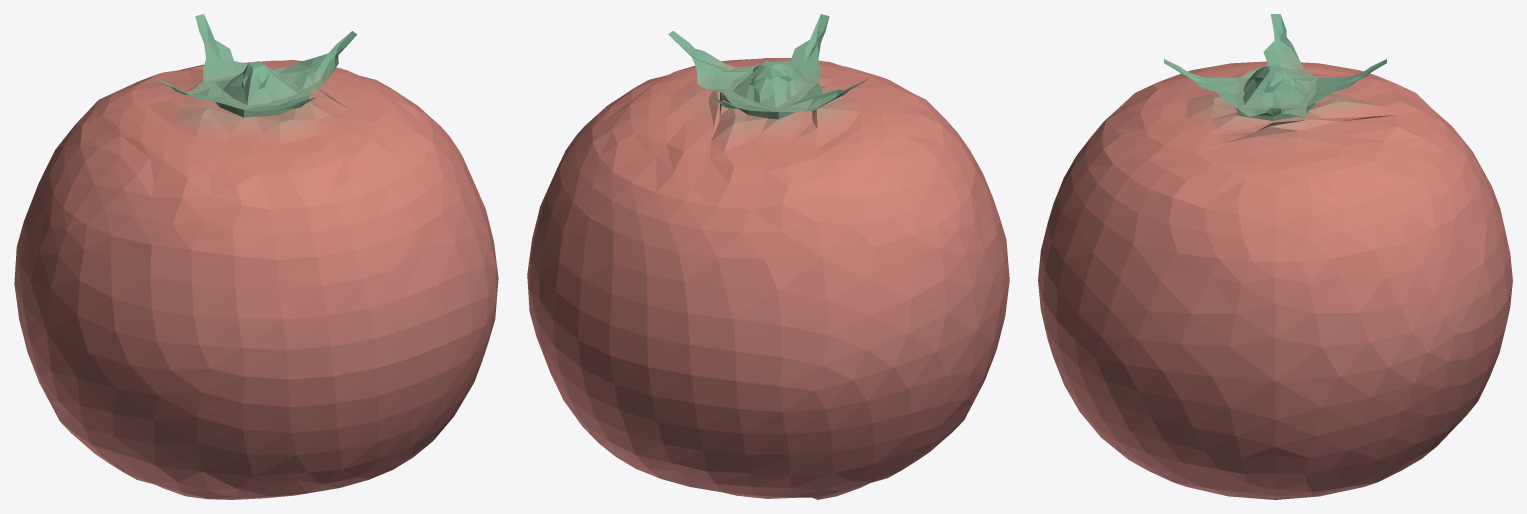
File: tomato.glb
The picture shows the model from 3 angles, left to right: view 1: azimuth 30°, elevation 25°; view 2: azimuth 150°, elevation 25°; view 3: azimuth 270°, elevation 25°; orthographic projection.
Bounding box in the file's own units: 1 × 0.9005 × 0.9977.
